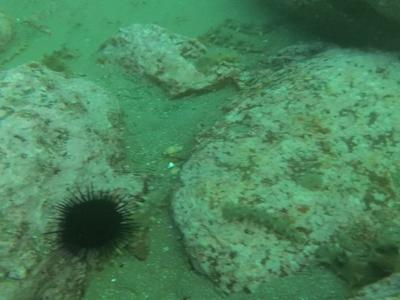holothurian: (319, 215, 394, 286), (221, 199, 313, 250), (200, 17, 280, 54)
urchin: (39, 180, 140, 263)
